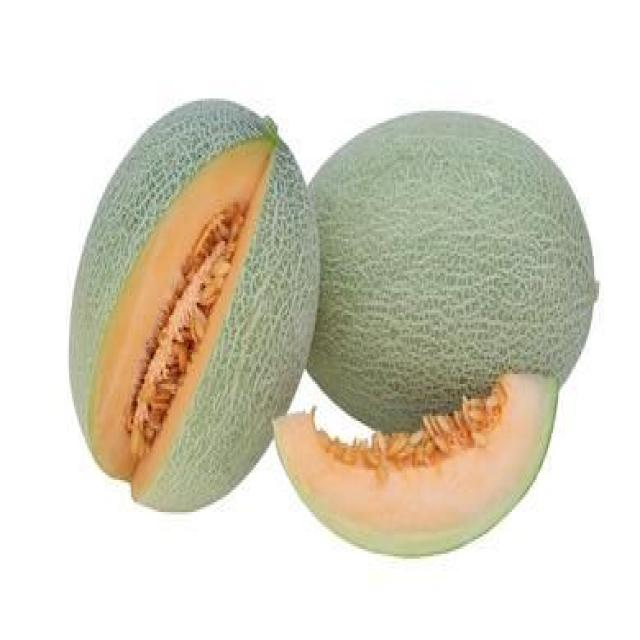cantaloupe: (67, 94, 321, 514), (311, 104, 595, 432), (273, 377, 556, 560)
